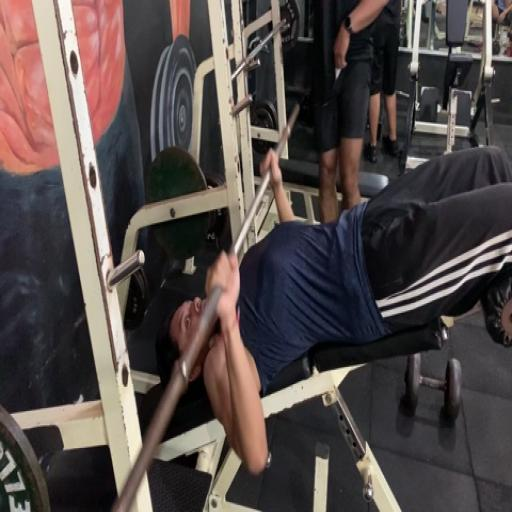exercise: (143, 141, 511, 476)
